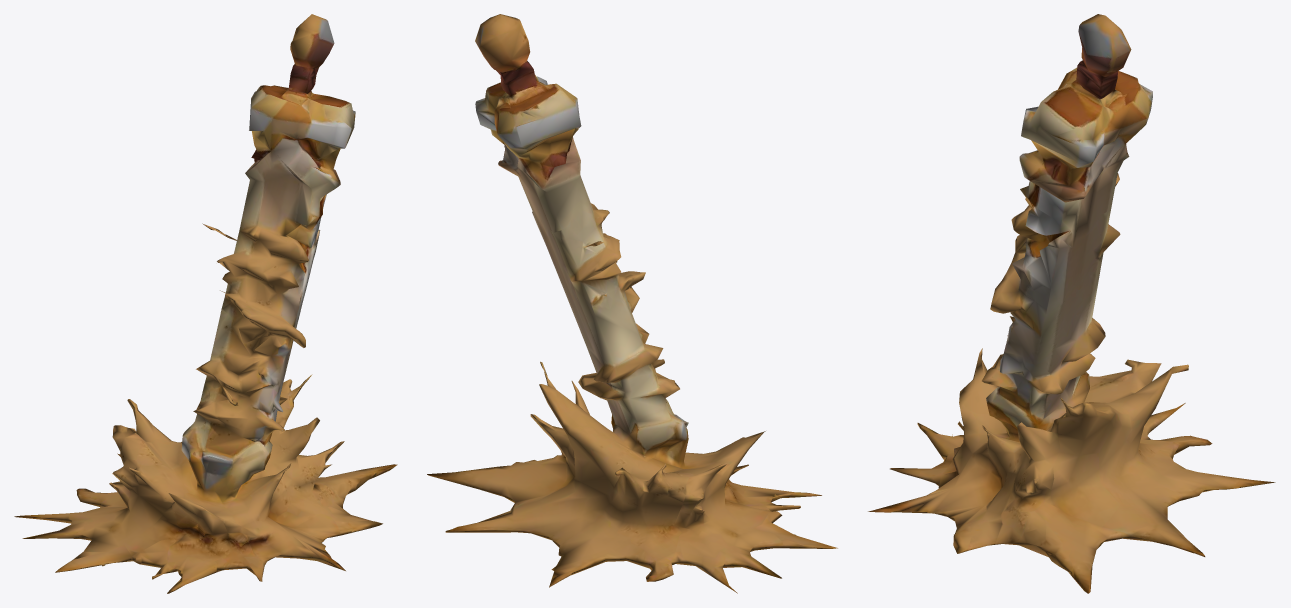
Rendered from sand_x.glb.
The picture shows the model from 3 angles, left to right: view 1: azimuth 30°, elevation 25°; view 2: azimuth 150°, elevation 25°; view 3: azimuth 270°, elevation 25°; orthographic projection. The views are drawn at different scales.
Parts seen in each view (by area): view 1: tripo_node_0cd069ef-7c73-426e-8362-fe24cf7e0d0d; view 2: tripo_node_0cd069ef-7c73-426e-8362-fe24cf7e0d0d; view 3: tripo_node_0cd069ef-7c73-426e-8362-fe24cf7e0d0d.
Part boxes in pixels (left/top/right/bottom): tripo_node_0cd069ef-7c73-426e-8362-fe24cf7e0d0d: left=14, top=14, right=397, bottom=593; tripo_node_0cd069ef-7c73-426e-8362-fe24cf7e0d0d: left=427, top=14, right=837, bottom=593; tripo_node_0cd069ef-7c73-426e-8362-fe24cf7e0d0d: left=868, top=14, right=1275, bottom=593.
Size of the model in its own units: 0.8099 by 0.9799 by 0.6756.
1 material, 1 textured.
